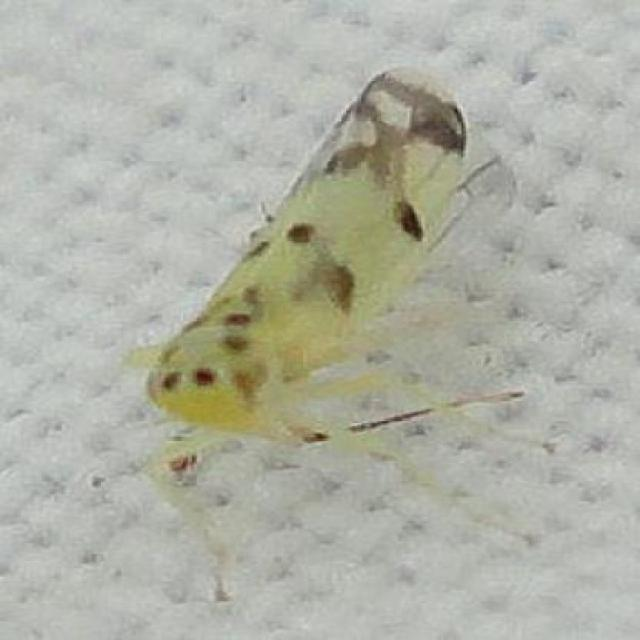green-leafhopper: (146, 68, 479, 506)
